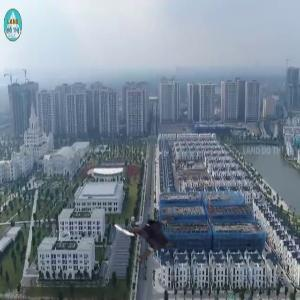drone: (103, 186, 192, 275)
